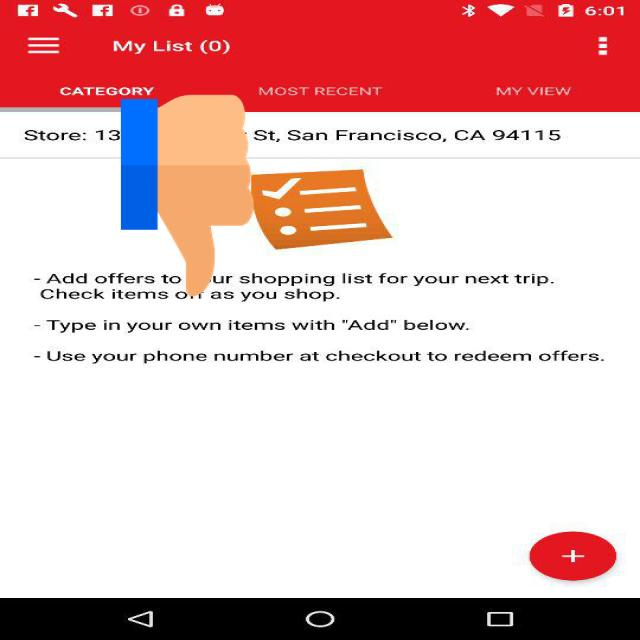obstruction: (121, 90, 254, 301)
